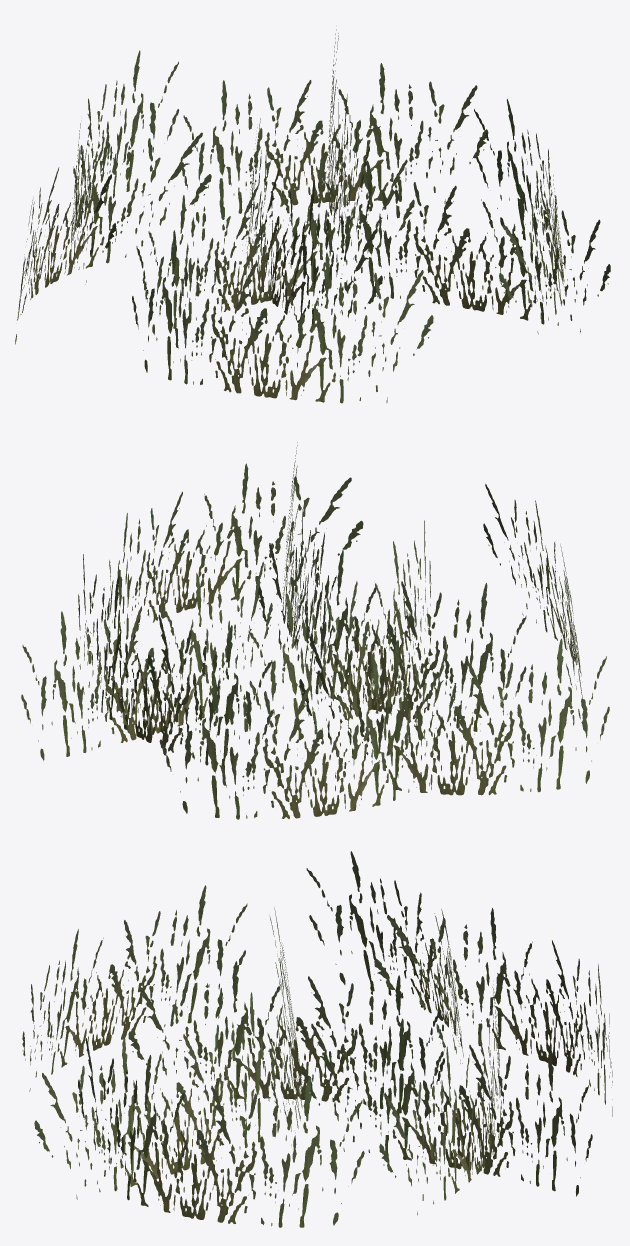
Rendered from meadow_grass_wispy.glb.
3 renders of one model, top to bottom at view 1: azimuth 30°, elevation 25°; view 2: azimuth 150°, elevation 25°; view 3: azimuth 270°, elevation 25°, orthographic. The views are drawn at different scales.
Parts seen in each view (by area): view 1: cluster_7; view 2: cluster_7; view 3: cluster_7.
Boxes of the visible parts, x1,y1,x2,y2 form: cluster_7: (15, 29, 610, 403); cluster_7: (21, 442, 609, 819); cluster_7: (22, 851, 612, 1227).
Bounding box in the file's own units: 2.84 × 0.817 × 2.87.
1 material, 1 textured.
